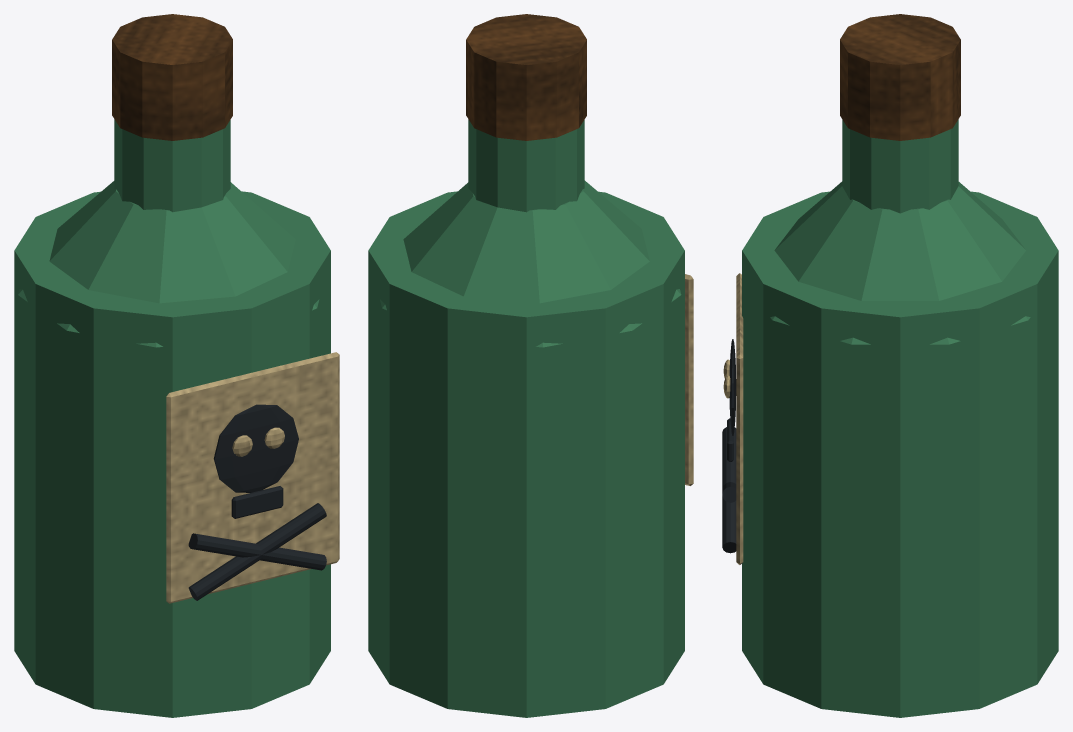
Rendered from poison_vial.glb.
3 renders of one model, left to right at view 1: azimuth 30°, elevation 25°; view 2: azimuth 150°, elevation 25°; view 3: azimuth 270°, elevation 25°, orthographic.
Parts seen in each view (by area): view 1: poison_vial; view 2: poison_vial; view 3: poison_vial.
Boxes of the visible parts, <box> form: poison_vial: <box>14,14,339,717</box>; poison_vial: <box>368,14,693,717</box>; poison_vial: <box>722,14,1058,717</box>.
Bounding box in the file's own units: 0.136 × 0.29 × 0.1445.
4 materials, 2 textured.
